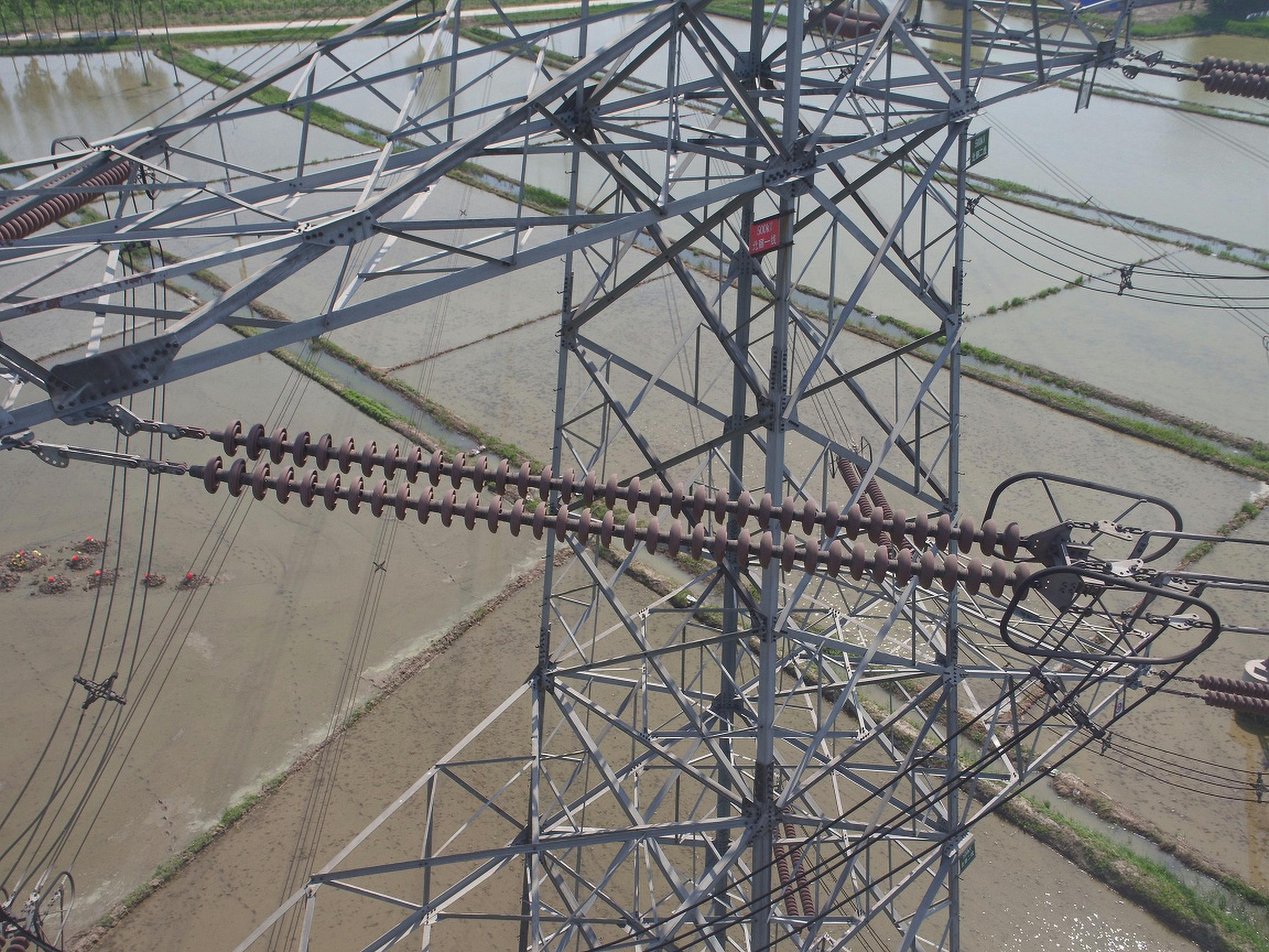insulator: (198, 417, 1035, 605), (1, 149, 138, 247), (830, 452, 915, 562), (771, 803, 819, 936), (1196, 48, 1269, 107), (1195, 670, 1269, 717), (806, 2, 885, 39)
